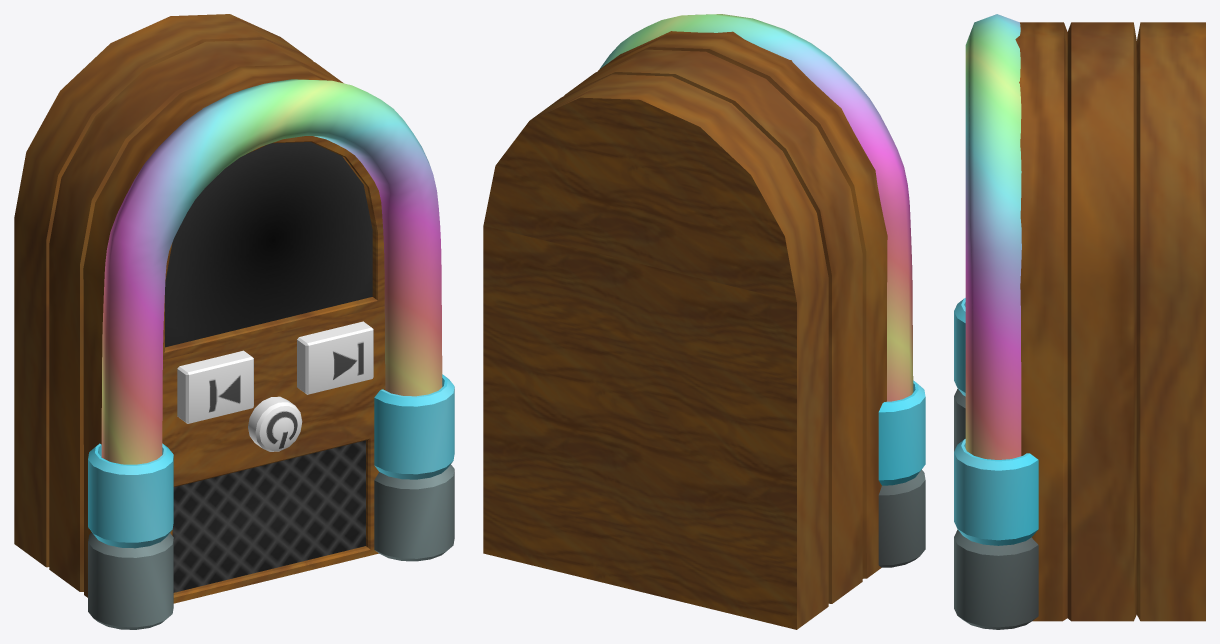
File: jukebox.fbx
The picture shows the model from 3 angles, left to right: view 1: azimuth 30°, elevation 25°; view 2: azimuth 150°, elevation 25°; view 3: azimuth 270°, elevation 25°; orthographic projection. The views are drawn at different scales.
Parts seen in each view (by area): view 1: jukebox, next, previous, power; view 2: jukebox; view 3: jukebox.
Boxes of the visible parts, x1,y1,x2,y2 form: jukebox: (14,14,454,629); next: (297,321,373,394); previous: (177,350,253,423); power: (248,396,302,451); jukebox: (483,14,925,629); jukebox: (954,14,1205,629).
Size of the model in its own units: 228 by 304 by 136.
